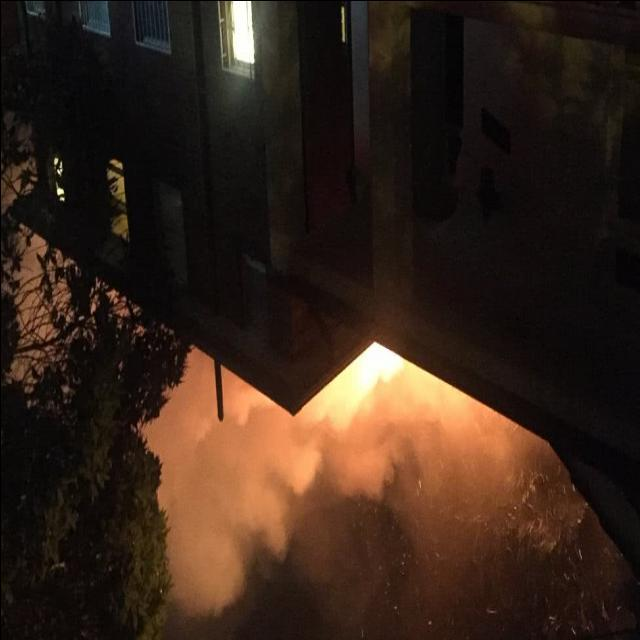Fire: (303, 328, 397, 473)
